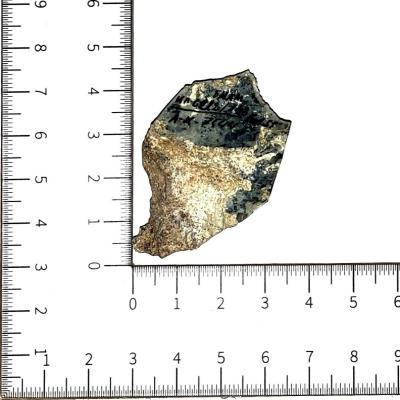archeology: (133, 70, 291, 260)
